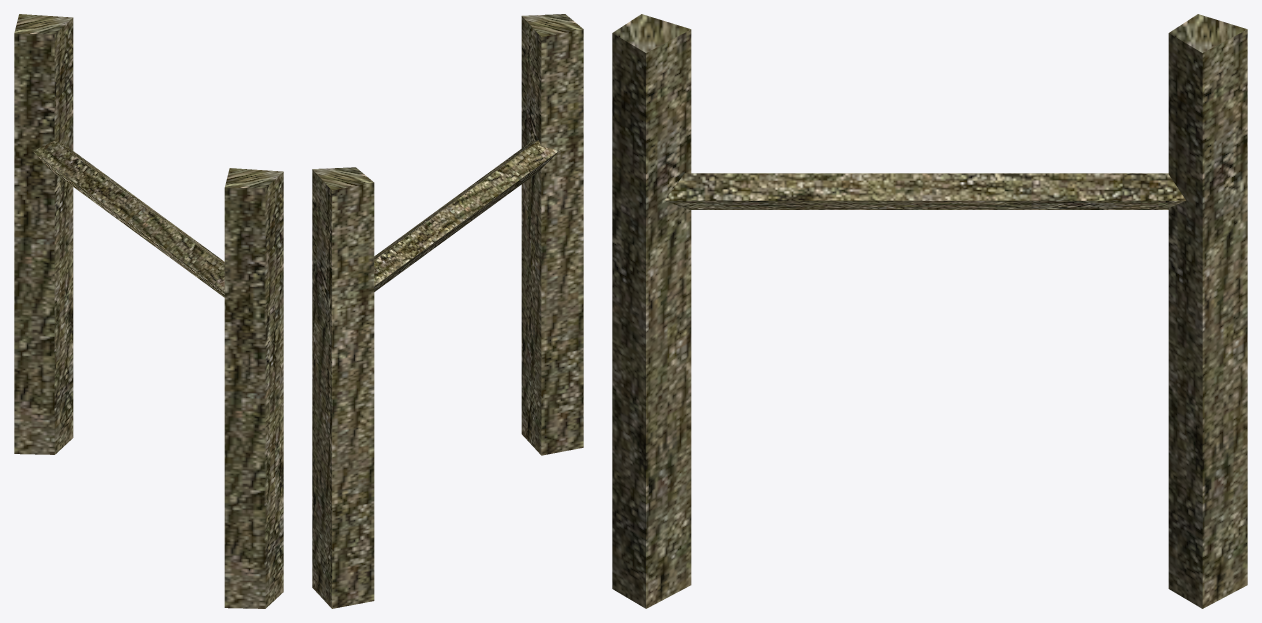
File: bush_grapes_prop.dae
The picture shows the model from 3 angles, left to right: view 1: azimuth 30°, elevation 25°; view 2: azimuth 150°, elevation 25°; view 3: azimuth 270°, elevation 25°; orthographic projection. The views are drawn at different scales.
Parts seen in each view (by area): view 1: Line03; view 2: Line03; view 3: Line03.
Part boxes in pixels (left/top/right/bottom): Line03: left=14, top=14, right=283, bottom=608; Line03: left=312, top=14, right=583, bottom=608; Line03: left=612, top=14, right=1247, bottom=608.
Bounding box in the file's own units: 0.415 × 2.85 × 2.75.
